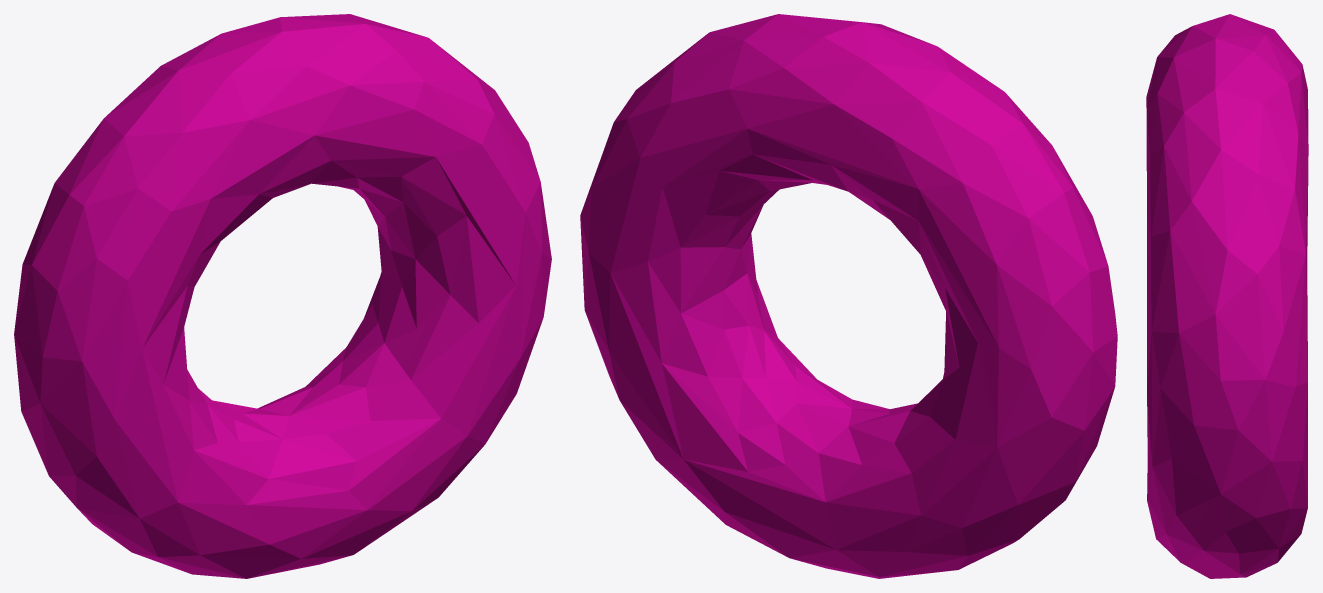
File: donut_tip.obj
The picture shows the model from 3 angles, left to right: view 1: azimuth 30°, elevation 25°; view 2: azimuth 150°, elevation 25°; view 3: azimuth 270°, elevation 25°; orthographic projection. The views are drawn at different scales.
Visible parts, largest first — view 1: donut_tip.004; view 2: donut_tip.004; view 3: donut_tip.004.
Boxes of the visible parts, x1,y1,x2,y2 form: donut_tip.004: (14,14,551,578); donut_tip.004: (580,14,1117,578); donut_tip.004: (1146,14,1308,578).
Size of the model in its own units: 279 by 281 by 80.77.
